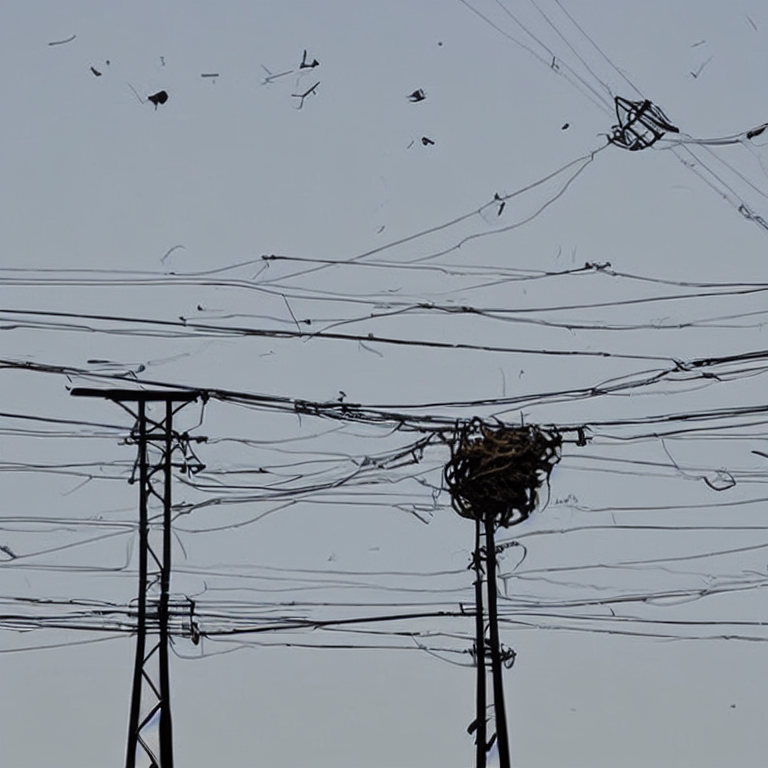nest: (448, 422, 554, 523)
